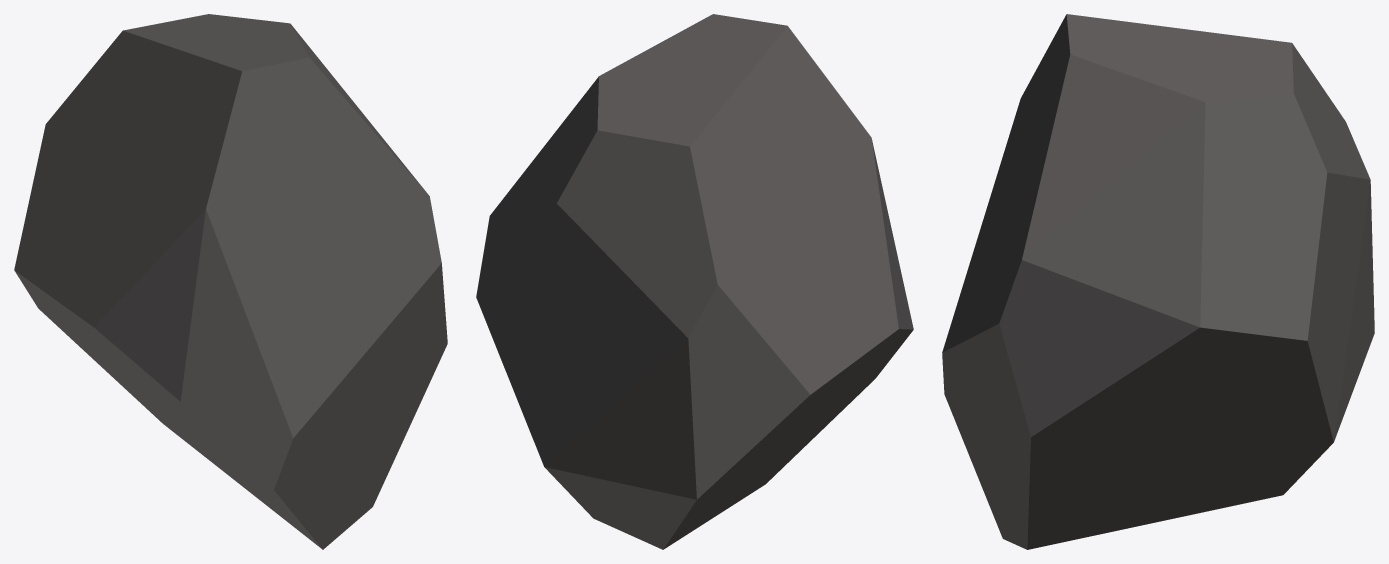
File: Rock_05.glb
The picture shows the model from 3 angles, left to right: view 1: azimuth 30°, elevation 25°; view 2: azimuth 150°, elevation 25°; view 3: azimuth 270°, elevation 25°; orthographic projection. The views are drawn at different scales.
Parts seen in each view (by area): view 1: Rock_05; view 2: Rock_05; view 3: Rock_05.
Part boxes in pixels (left/top/right/bottom): Rock_05: left=14, top=14, right=447, bottom=549; Rock_05: left=476, top=14, right=913, bottom=549; Rock_05: left=942, top=14, right=1374, bottom=549.
Size of what is drawn, in the model's own units: 1.71 by 2.21 by 1.74.
Materials: 1 (1 with a texture image).
